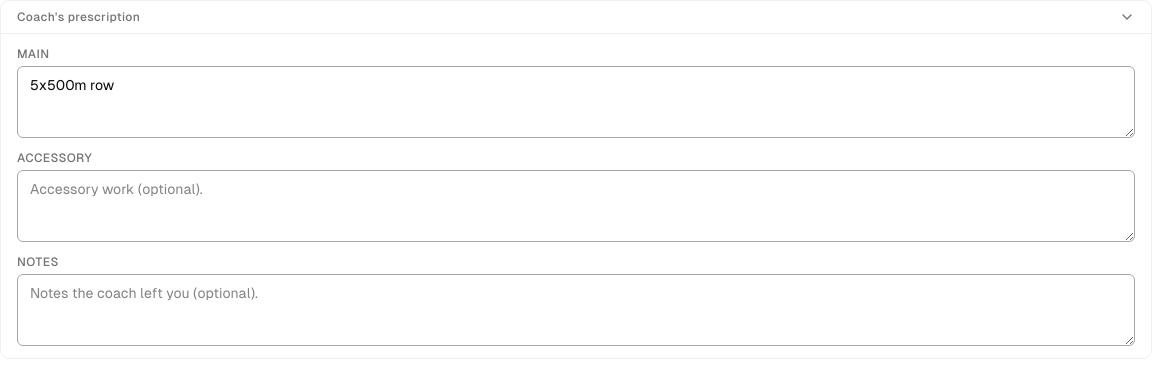
Test: CoachPrescriptionCollapsible unmount flush › does not write the mount-time text back when collapsed after an autosave
Replace the text in the text box with test id "prescription-textarea-mainWorkout" with "5x500m row @ 2:00" at (576, 102), box [17,66,1135,138]
Wait 600 ms
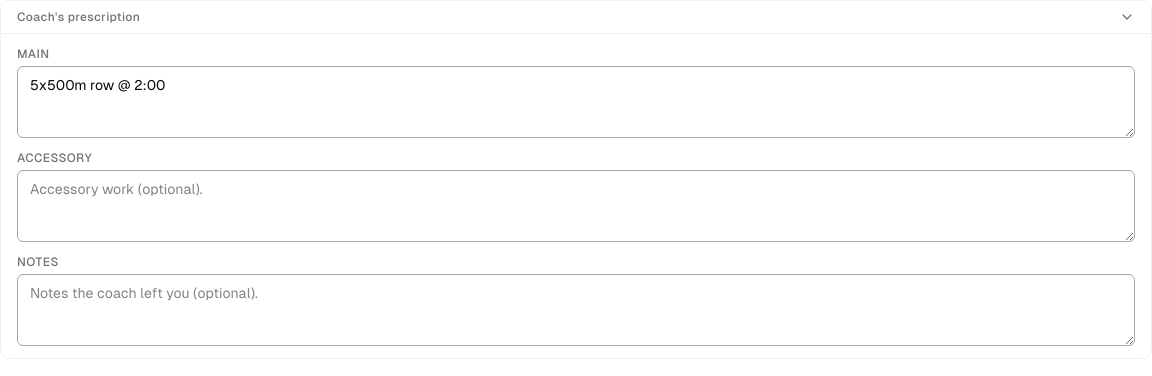
Click the button with test id "coach-prescription-toggle" at (79, 17), box [17,9,1135,25]
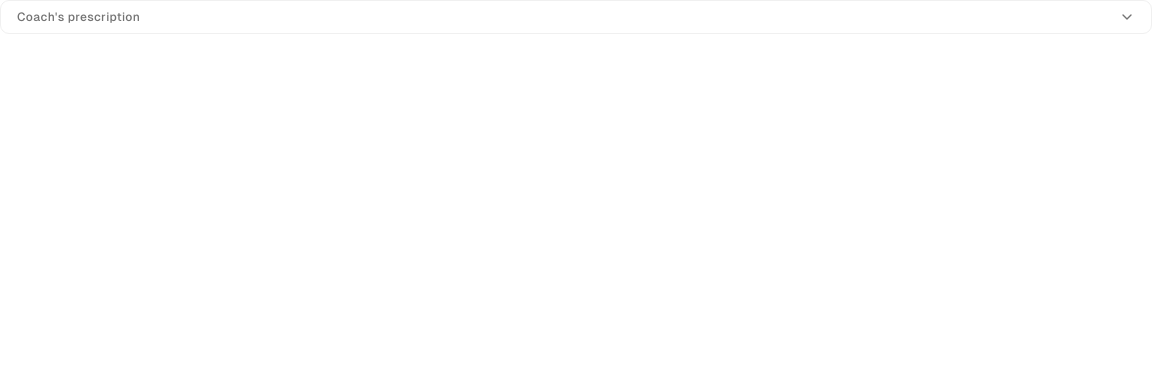
Expected: the text box with test id "prescription-textarea-mainWorkout" is gone
